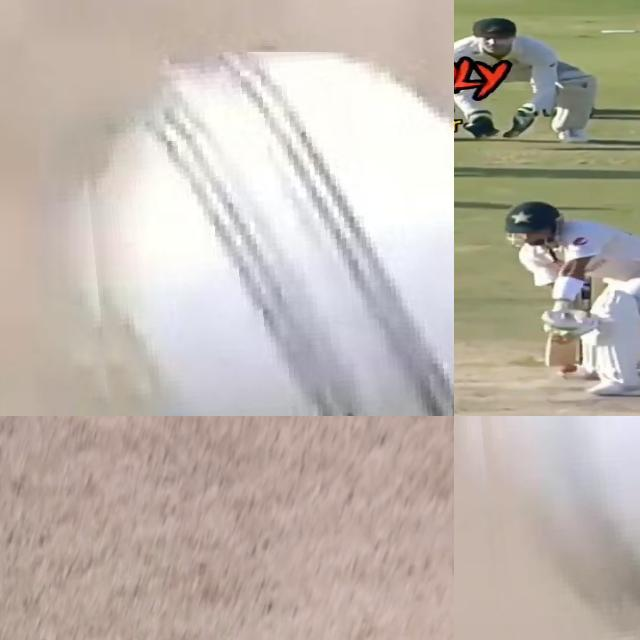Cricket ball: (75, 52, 454, 416), (457, 416, 640, 640), (557, 361, 579, 376)
